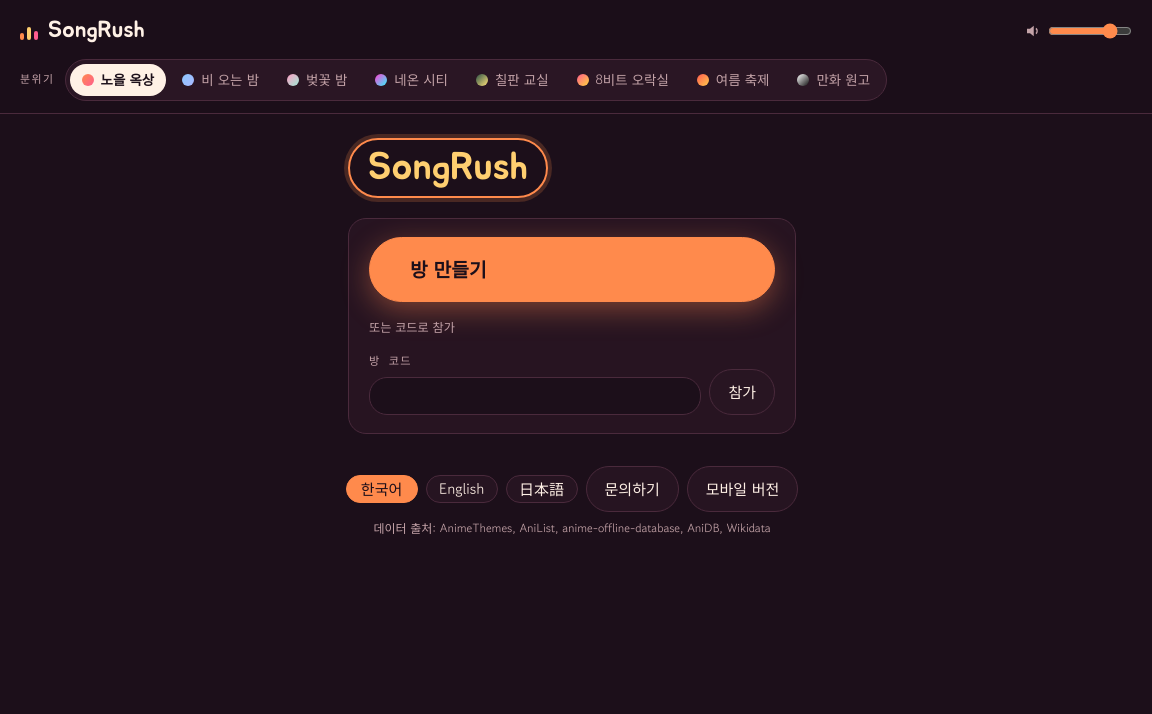
Test case: reveal titles › a missing language (empty or absent) has no line
The image size is (1152, 714).
Click the button "방 만들기".
click(448, 269)  # box [369, 237, 775, 302]
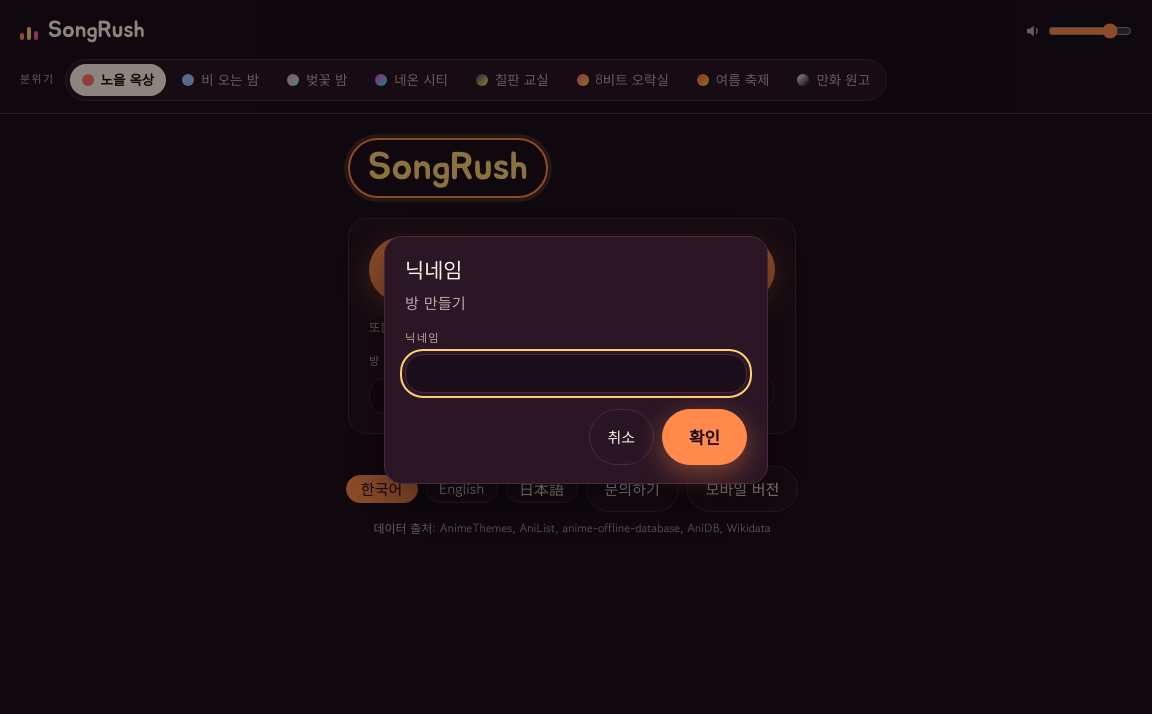
Type "Kai" into the field.
click(576, 373); type("Kai")  # box [405, 354, 747, 392]
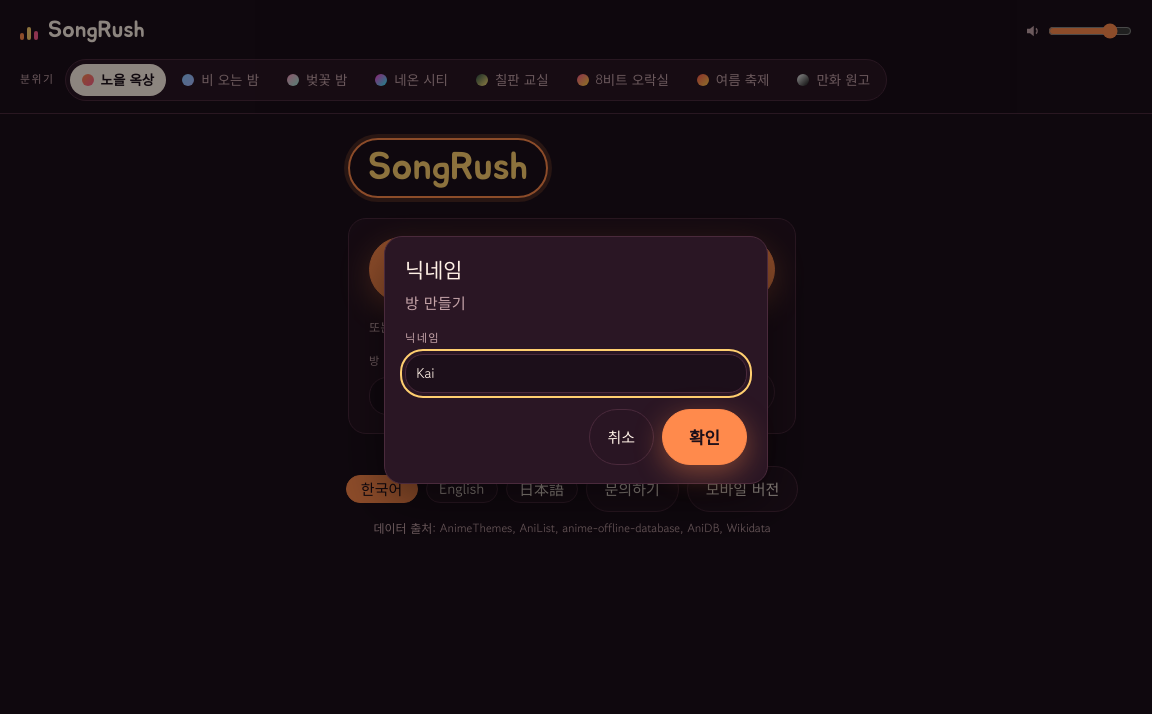
Click the button "확인".
click(705, 437)  # box [662, 409, 747, 466]
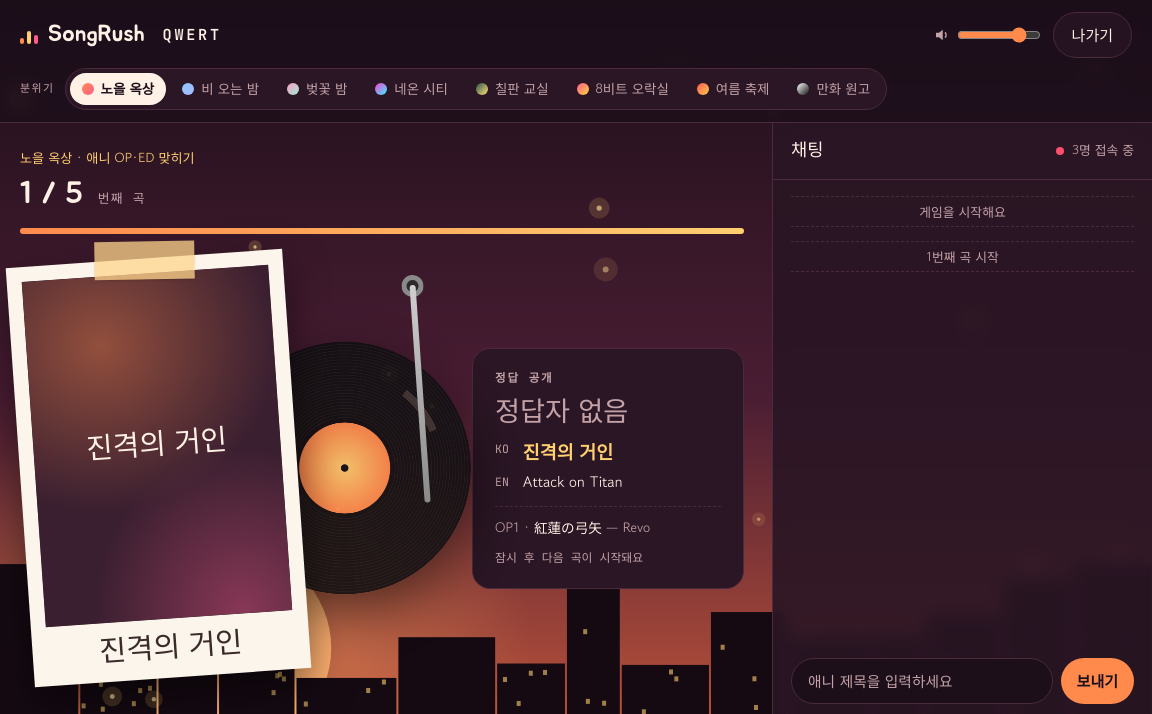
Now the text "정답 공개" is shown, box [495, 370, 554, 385]
Now the text "진격의 거인" is shown, box [523, 438, 613, 464]
Now the text "KO" is shown, box [495, 440, 509, 456]
